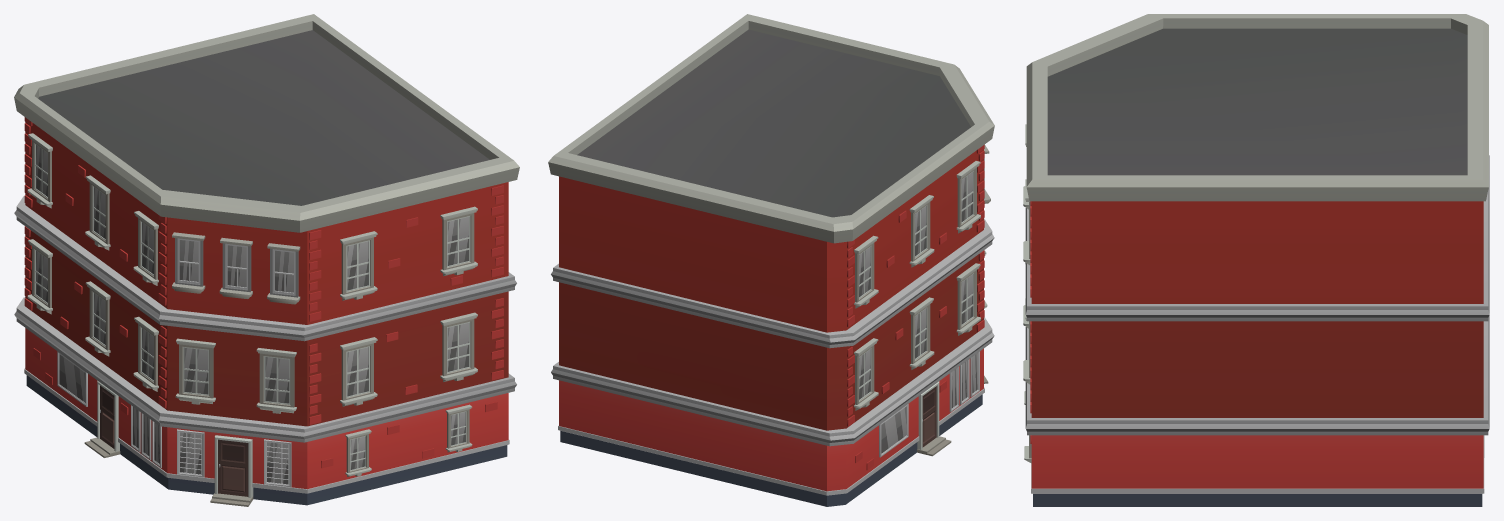
The model's file is Building_25_3_A.glb.
The picture shows the model from 3 angles, left to right: view 1: azimuth 30°, elevation 25°; view 2: azimuth 150°, elevation 25°; view 3: azimuth 270°, elevation 25°; orthographic projection. The views are drawn at different scales.
Parts seen in each view (by area): view 1: Building_25_3_A; view 2: Building_25_3_A; view 3: Building_25_3_A.
Boxes of the visible parts, x1,y1,x2,y2 form: Building_25_3_A: [14, 14, 519, 506]; Building_25_3_A: [548, 14, 994, 506]; Building_25_3_A: [1023, 14, 1489, 506].
Bounding box in the file's own units: 12.91 × 11.59 × 14.79.
3 materials, 3 textured.
